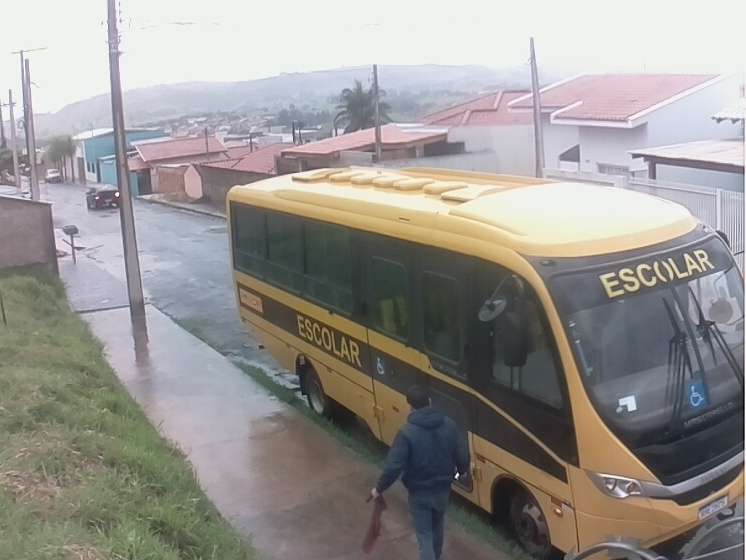person: (369, 384, 469, 560)
